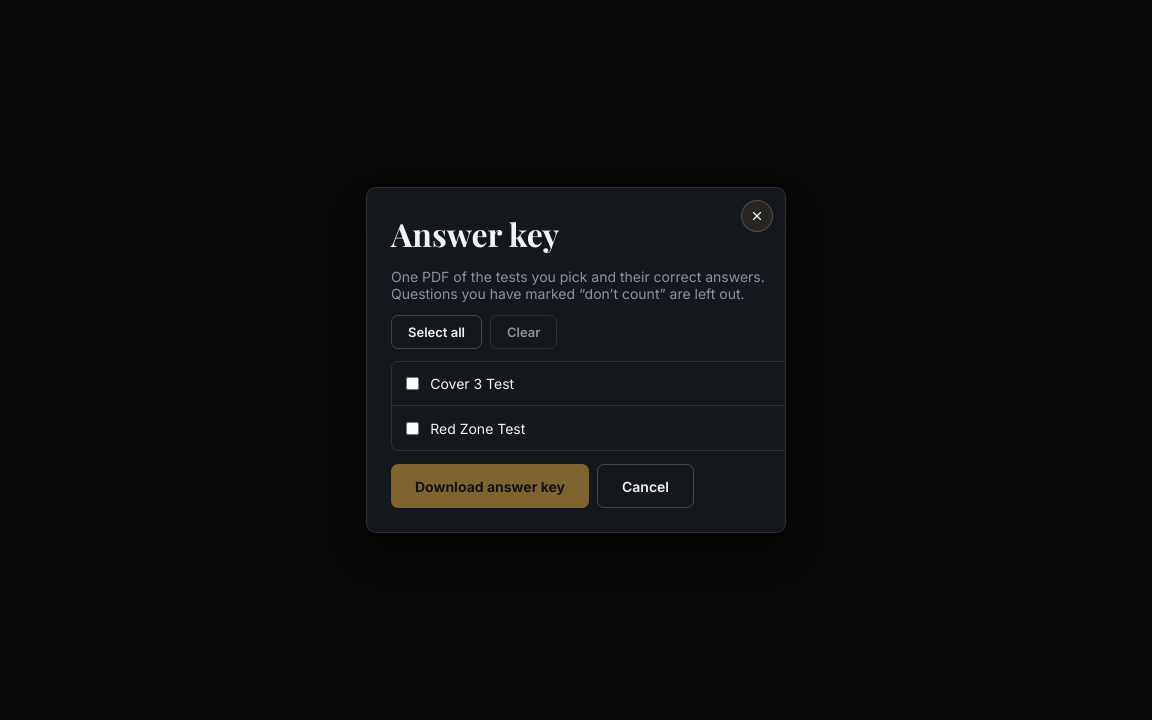
Test: AnswerKeyDialog › reports a failure instead of closing silently
This screenshot has width=1152, height=720.
Step 1. Click the button "Select all" → (436,332), box [391, 314, 482, 348]
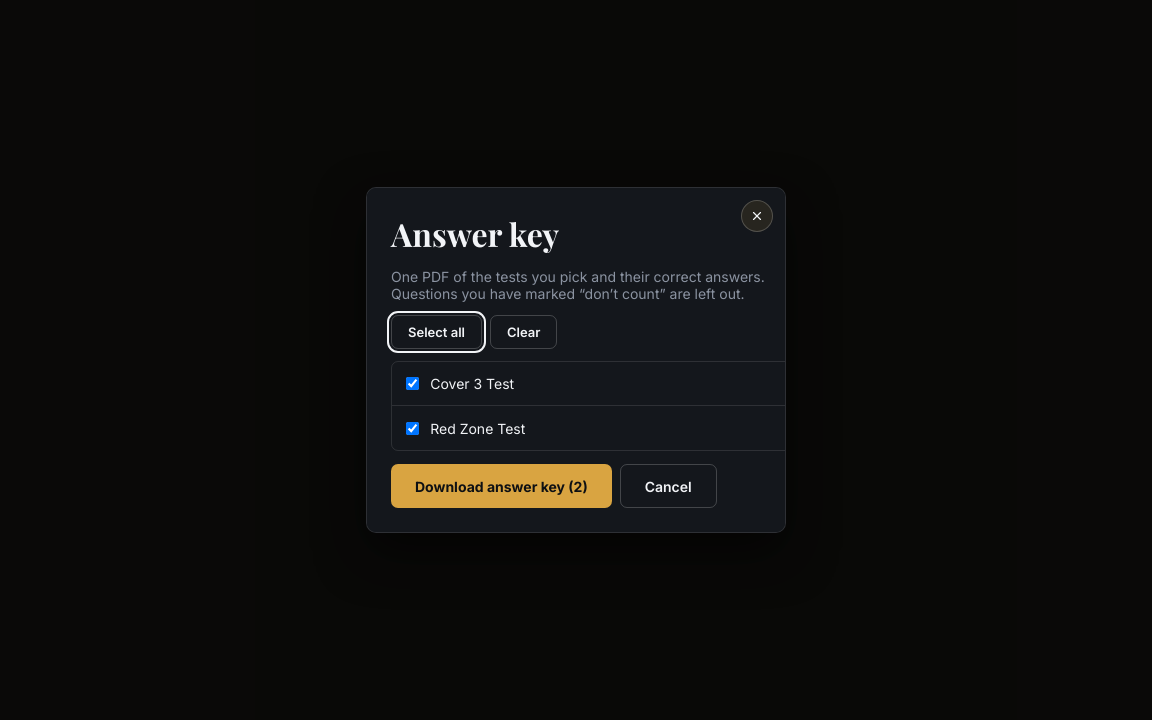
Step 2. Click the button "Download answer key (2)" → (501,486), box [391, 464, 612, 508]
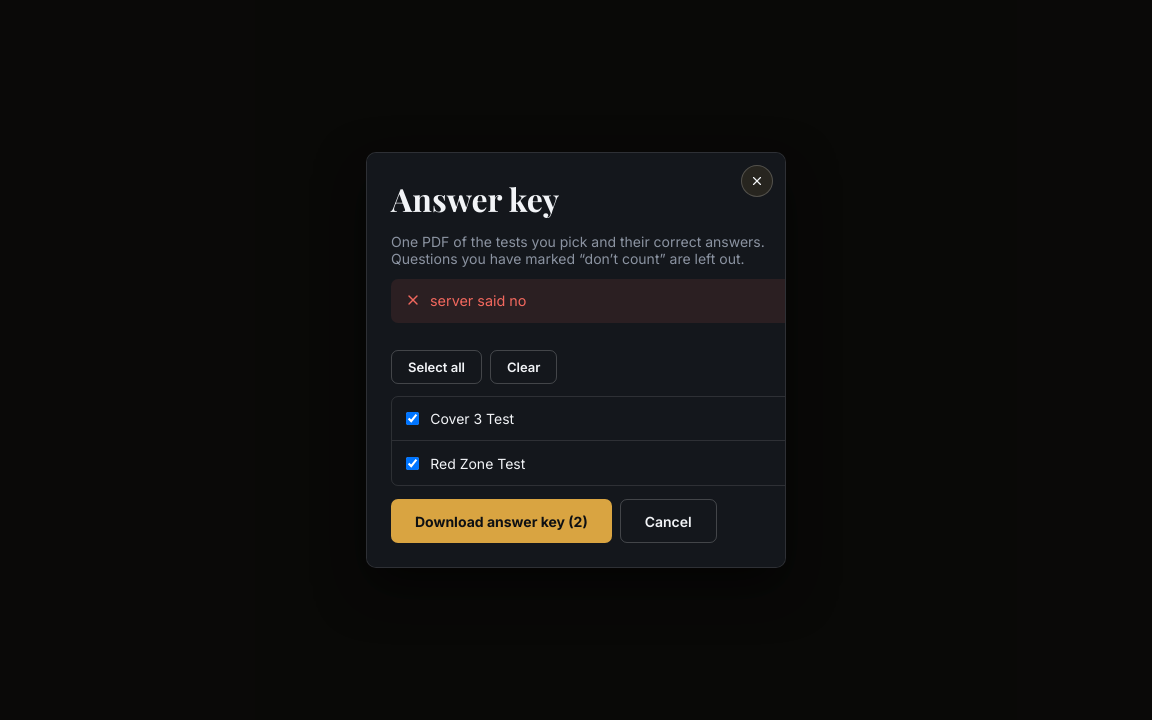
expect the message "server said no" is shown: met, box [391, 279, 786, 322]
